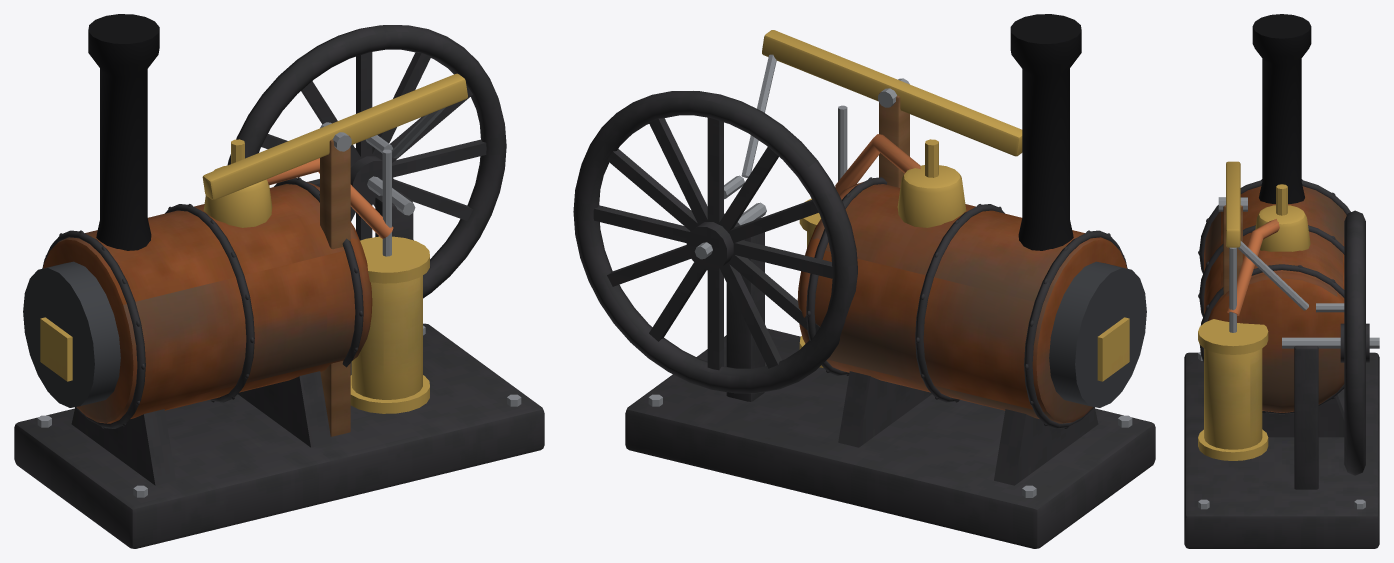
Rendered from steam_mini.glb.
3 renders of one model, left to right at view 1: azimuth 30°, elevation 25°; view 2: azimuth 150°, elevation 25°; view 3: azimuth 270°, elevation 25°, orthographic. The views are drawn at different scales.
Visible parts, largest first — view 1: steam_mini_static, miniFly_static; view 2: steam_mini_static, miniFly_static; view 3: steam_mini_static, miniFly_static.
Boxes of the visible parts, bbox=[...] form: steam_mini_static: bbox=[14, 14, 544, 548]; miniFly_static: bbox=[227, 25, 506, 298]; steam_mini_static: bbox=[625, 14, 1155, 548]; miniFly_static: bbox=[573, 91, 857, 393]; steam_mini_static: bbox=[1184, 14, 1379, 548]; miniFly_static: bbox=[1316, 210, 1369, 475].
Bounding box in the file's own units: 0.957 × 0.86 × 0.4.
8 materials, 6 textured.
